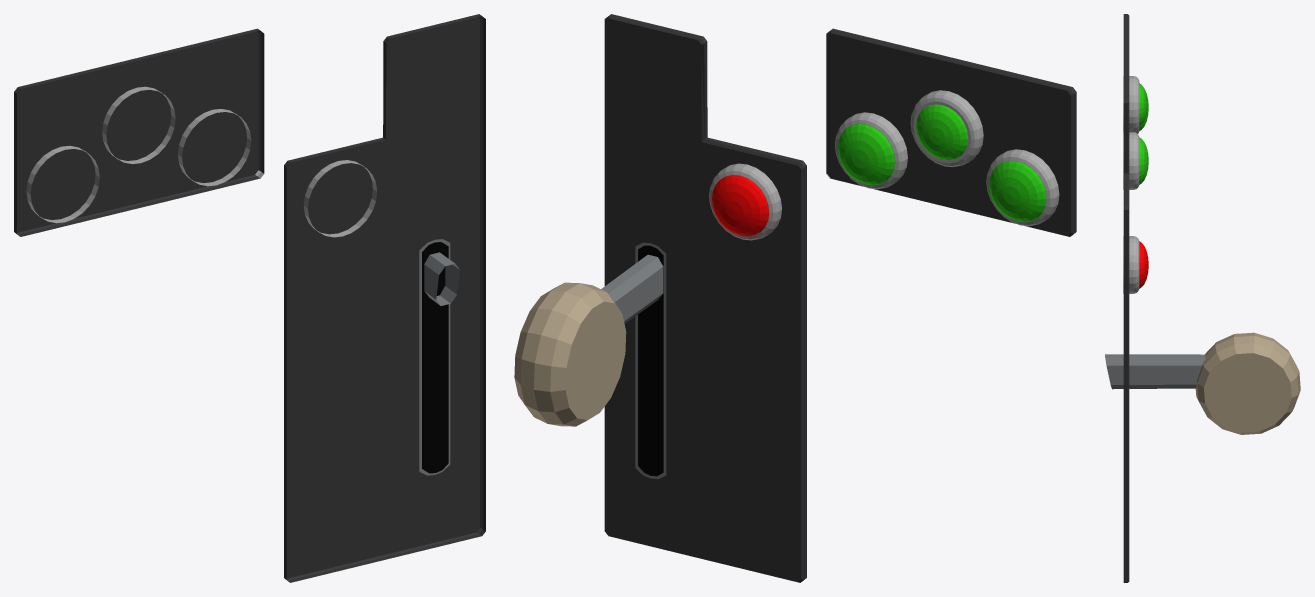
File: gear.obj
The picture shows the model from 3 angles, left to right: view 1: azimuth 30°, elevation 25°; view 2: azimuth 150°, elevation 25°; view 3: azimuth 270°, elevation 25°; orthographic projection. The views are drawn at different scales.
Parts seen in each view (by area): view 1: base, gear; view 2: base, gear, gearRON, gearwarningOn, gearLON, gearAON; view 3: gear, base, gearwarningOn, gearLON, gearAON.
Part boxes in pixels (box(x1,y1,x2,y2)): base: box(14, 14, 485, 582); gear: box(424, 252, 459, 305); base: box(604, 14, 1076, 582); gear: box(514, 254, 663, 426); gearRON: box(989, 160, 1046, 222); gearwarningOn: box(712, 175, 769, 236); gearLON: box(837, 124, 894, 185); gearAON: box(916, 104, 968, 160); gear: box(1105, 332, 1300, 434); base: box(1123, 14, 1139, 582); gearwarningOn: box(1139, 241, 1148, 288); gearLON: box(1139, 137, 1148, 184); gearAON: box(1139, 83, 1147, 126).
Bounding box in the file's own units: 0.1378 × 0.1572 × 0.0687.
1 material, 1 textured.
